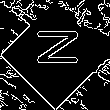N_W: (30, 35, 80, 75)
